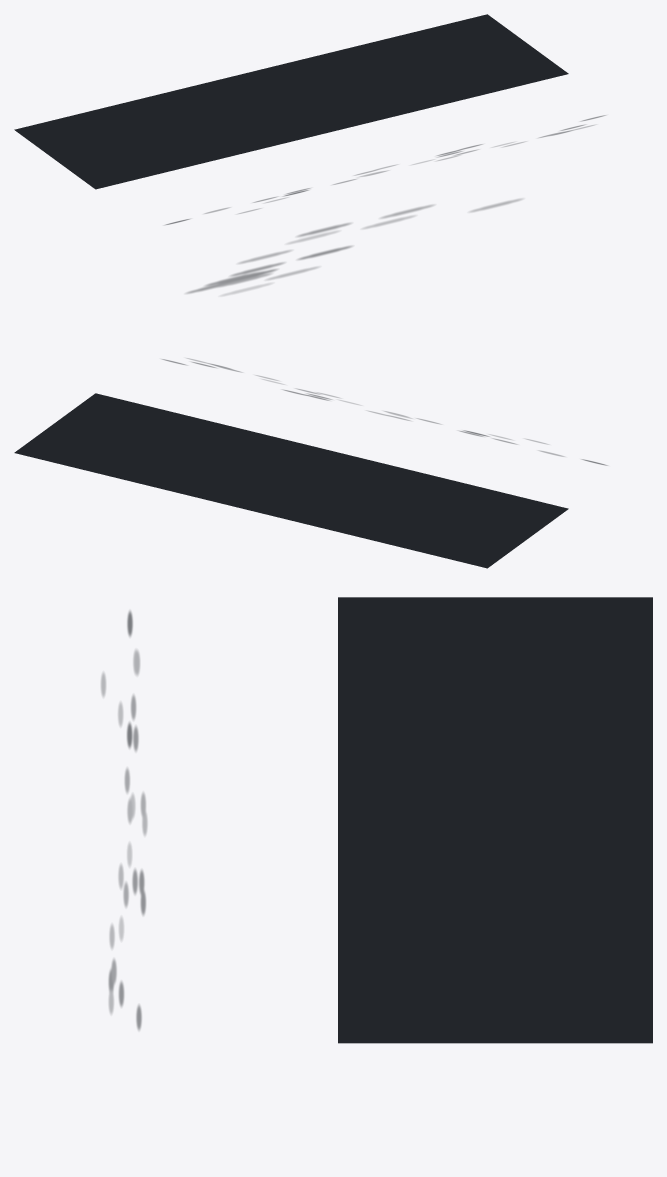
File: ext_track_scuff_kerb_03.glb
3 renders of one model, top to bottom at view 1: azimuth 30°, elevation 25°; view 2: azimuth 150°, elevation 25°; view 3: azimuth 270°, elevation 25°, orthographic. The views are drawn at different scales.
Visible parts, largest first — view 1: deck_feet_1_L0, face_scuff_2_L0, edge_feet_0_L0; view 2: deck_feet_1_L0, edge_feet_0_L0; view 3: deck_feet_1_L0, edge_feet_0_L0.
Part boxes in pixels (x1=…): deck_feet_1_L0: x1=14, y1=14, x2=568, y2=189; face_scuff_2_L0: x1=187, y1=199, x2=521, y2=294; edge_feet_0_L0: x1=166, y1=115, x2=605, y2=224; deck_feet_1_L0: x1=14, y1=393, x2=568, y2=568; edge_feet_0_L0: x1=162, y1=358, x2=607, y2=465; deck_feet_1_L0: x1=338, y1=597, x2=652, y2=1043; edge_feet_0_L0: x1=101, y1=611, x2=147, y2=1030.
Bounding box in the file's own units: 1.9 × 0.237 × 1.15.
3 materials, 3 textured.
